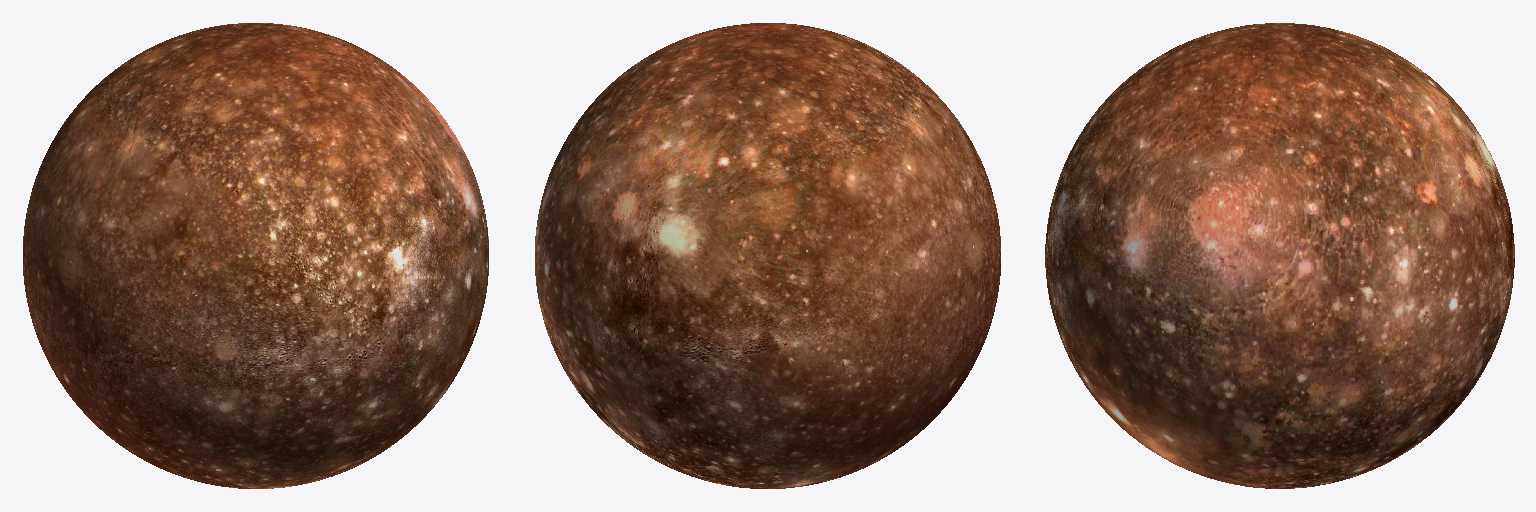
3 views of the same model, side by side, from view 1: azimuth 30°, elevation 25°; view 2: azimuth 150°, elevation 25°; view 3: azimuth 270°, elevation 25° (orthographic).
Visible parts, largest first — view 1: 10467_Cratered_Moon_v1; view 2: 10467_Cratered_Moon_v1; view 3: 10467_Cratered_Moon_v1.
Part boxes in pixels (left/top/right/bottom): 10467_Cratered_Moon_v1: left=23, top=23, right=488, bottom=488; 10467_Cratered_Moon_v1: left=535, top=23, right=1000, bottom=488; 10467_Cratered_Moon_v1: left=1045, top=23, right=1514, bottom=488.
Size of the model in its own units: 4742529 by 4742530 by 4792464.
Materials: 1 (1 with a texture image).